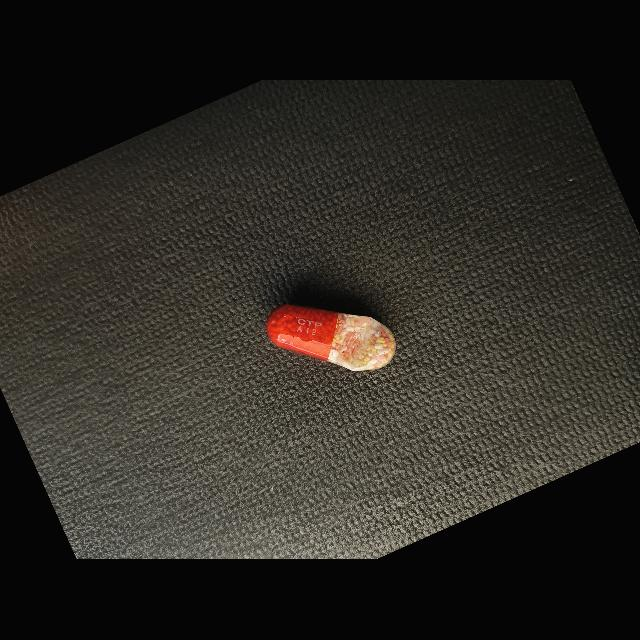Defective Capsule: (266, 305, 396, 371)
